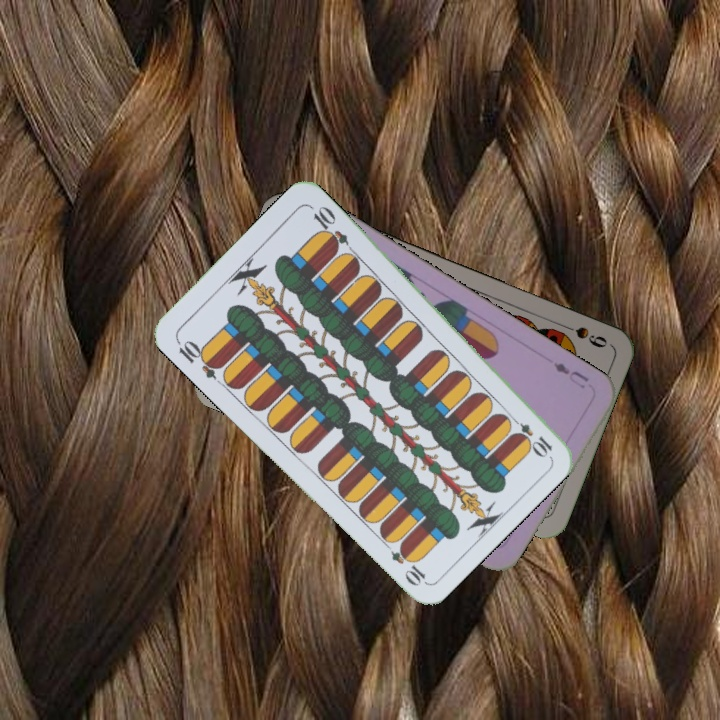E10: (172, 335, 225, 382), (505, 411, 555, 459)
EU: (549, 358, 592, 392)
S9: (554, 319, 610, 351)
